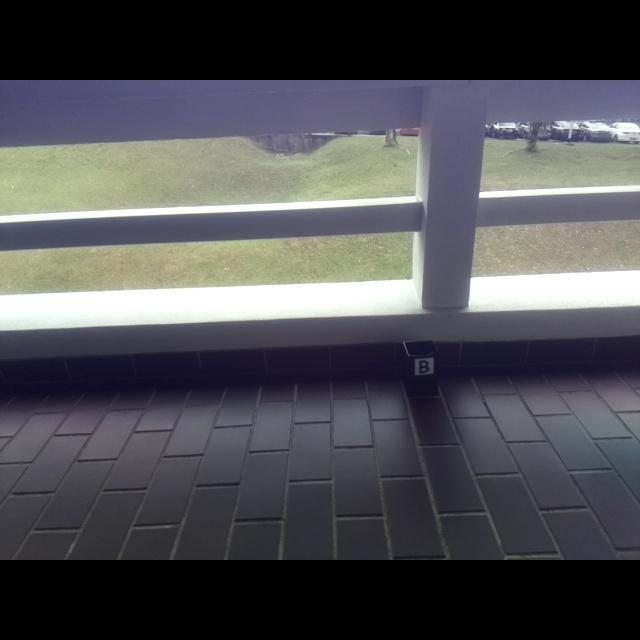B: (418, 359, 430, 374)
